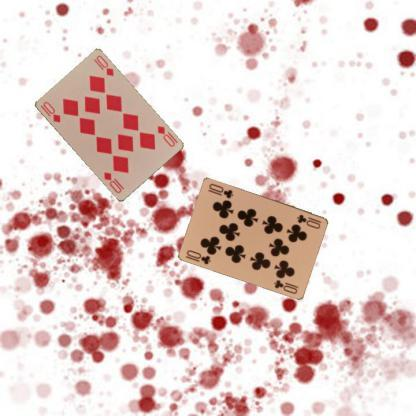10c: (184, 247, 213, 265), (294, 212, 322, 230)
10d: (37, 98, 62, 124), (154, 123, 178, 148)
